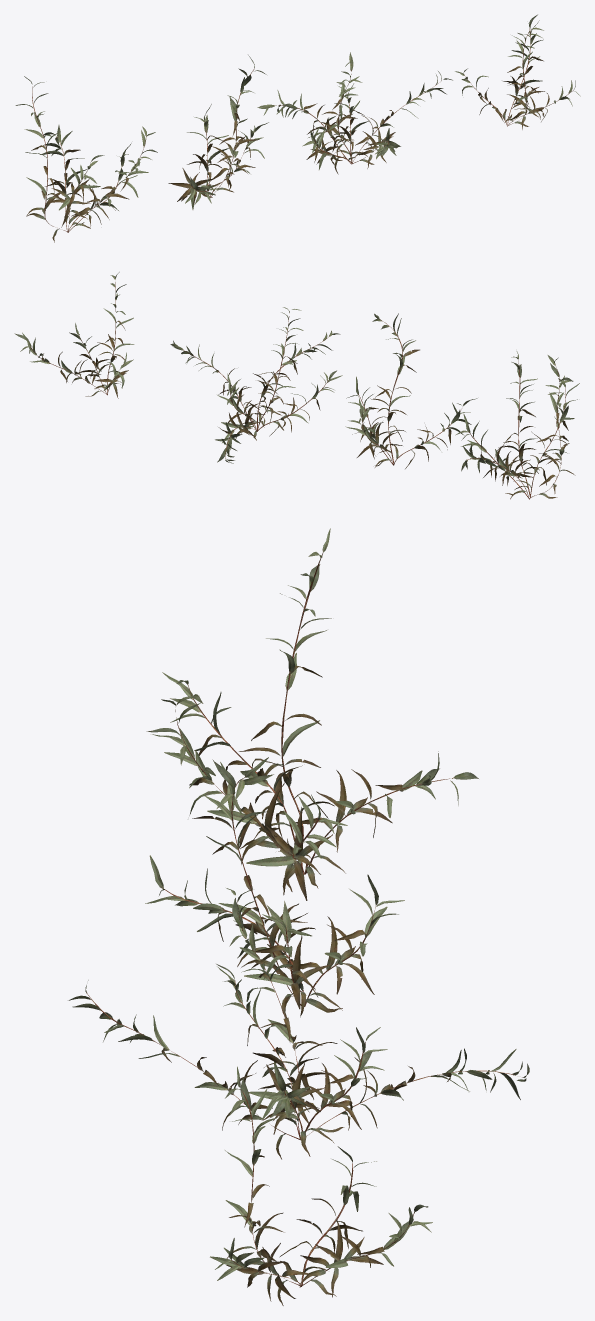
Rendered from shrub_02.glb.
The picture shows the model from 3 angles, top to bottom: view 1: azimuth 30°, elevation 25°; view 2: azimuth 150°, elevation 25°; view 3: azimuth 270°, elevation 25°; orthographic projection. The views are drawn at different scales.
Parts seen in each view (by area): view 1: shrub_02_c, shrub_02_a, shrub_02_b, shrub_02_d; view 2: shrub_02_a, shrub_02_c, shrub_02_b, shrub_02_d; view 3: shrub_02_a, shrub_02_c, shrub_02_b, shrub_02_d.
Part boxes in pixels (<box>): shrub_02_c: <box>257,52,452,174</box>; shrub_02_a: <box>15,76,157,242</box>; shrub_02_b: <box>168,55,268,209</box>; shrub_02_d: <box>455,14,580,129</box>; shrub_02_a: <box>455,351,579,499</box>; shrub_02_c: <box>170,307,342,463</box>; shrub_02_b: <box>345,313,477,468</box>; shrub_02_d: <box>14,272,134,398</box>; shrub_02_a: <box>146,528,478,900</box>; shrub_02_c: <box>68,888,529,1159</box>; shrub_02_b: <box>145,757,404,1018</box>; shrub_02_d: <box>210,1066,432,1305</box>.
Size of the model in its own units: 6.05 by 1.7 by 2.29.
1 material, 1 textured.
